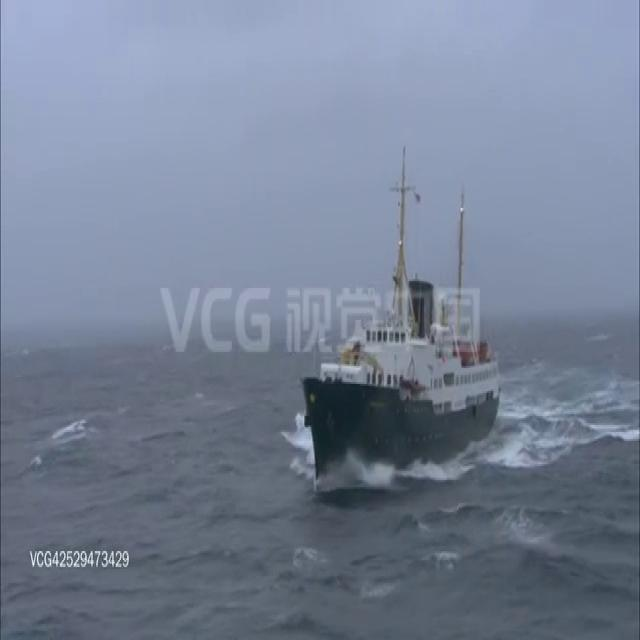passenger ship: (299, 178, 504, 486)
